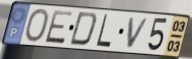5: (146, 18, 168, 52)
D: (68, 10, 100, 47)
E: (43, 10, 75, 46)
L: (95, 13, 113, 49)
O: (23, 8, 50, 44)
V: (126, 16, 151, 50)
